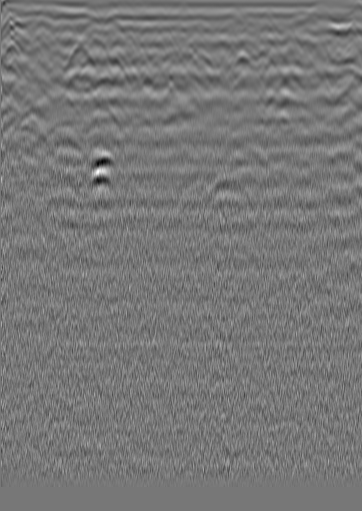가스: (79, 147, 124, 187)
상수: (319, 22, 339, 42)
오수: (28, 12, 48, 32)
우수: (187, 17, 207, 37)
